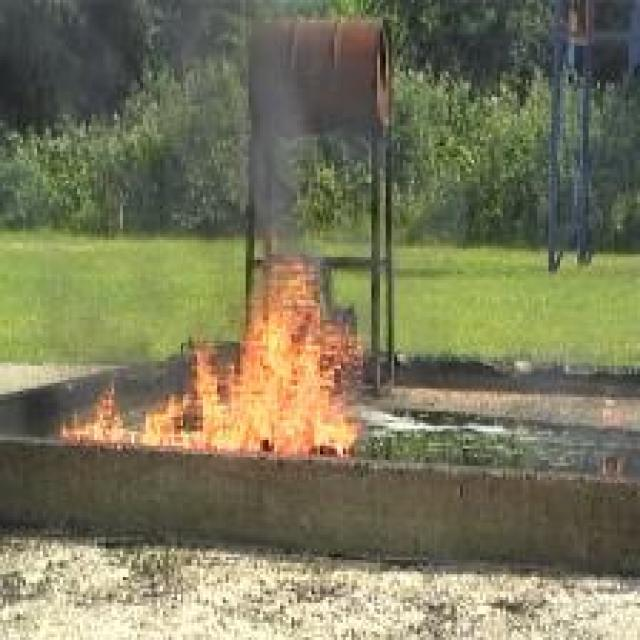Fire: (60, 263, 363, 460)
